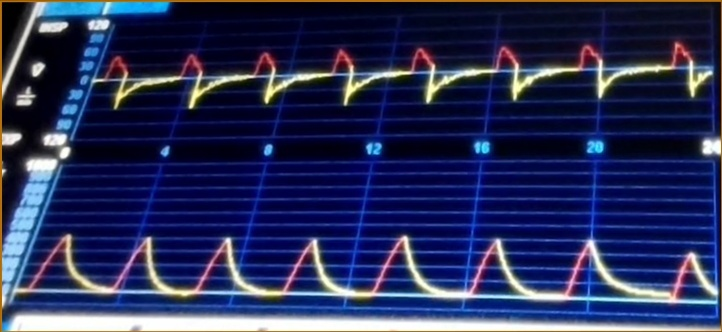Accumulation Flow: (105, 35, 710, 128)
Volume: (37, 228, 716, 313)
